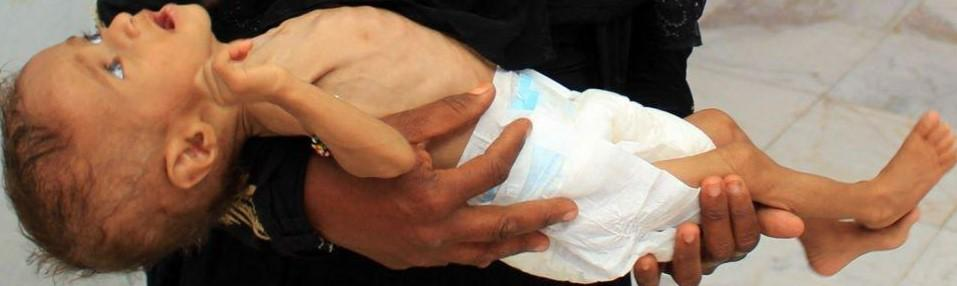Stunting: (28, 0, 266, 271)
